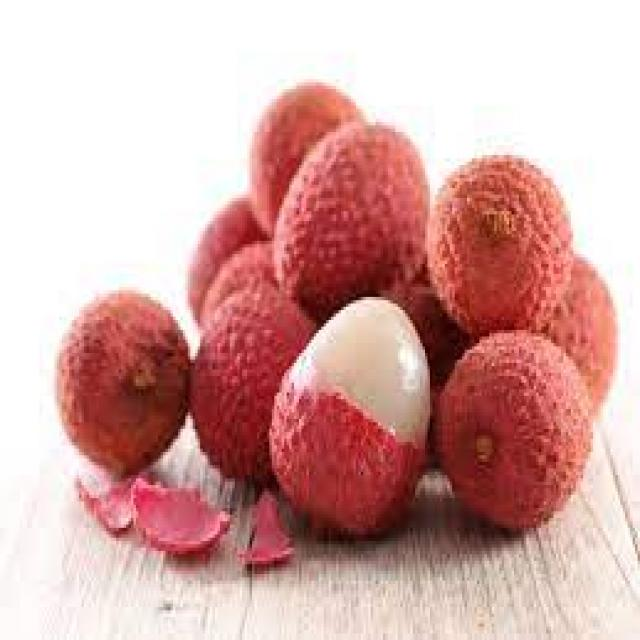lychee: (208, 166, 582, 526)
